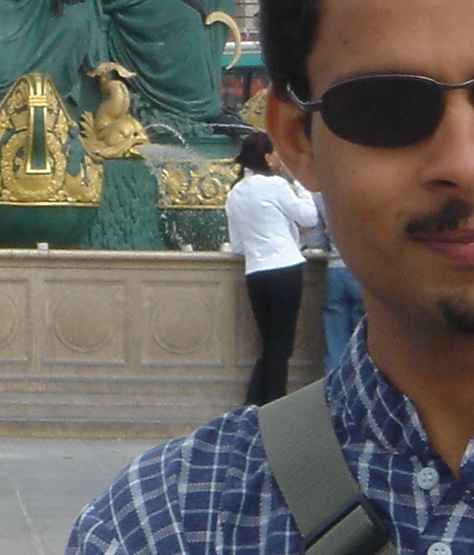person: (222, 130, 312, 423)
